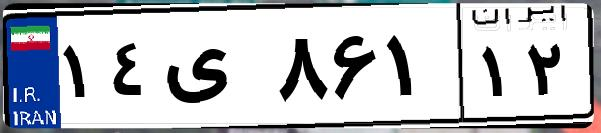1: (385, 28, 445, 110), (57, 26, 110, 100), (475, 38, 525, 113)
2: (525, 38, 570, 115)
4: (110, 28, 158, 98)
6: (330, 28, 385, 110)
8: (270, 28, 330, 110)
ی: (158, 20, 270, 120)
